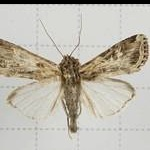Spodoptera litura: (1, 12, 149, 139)
